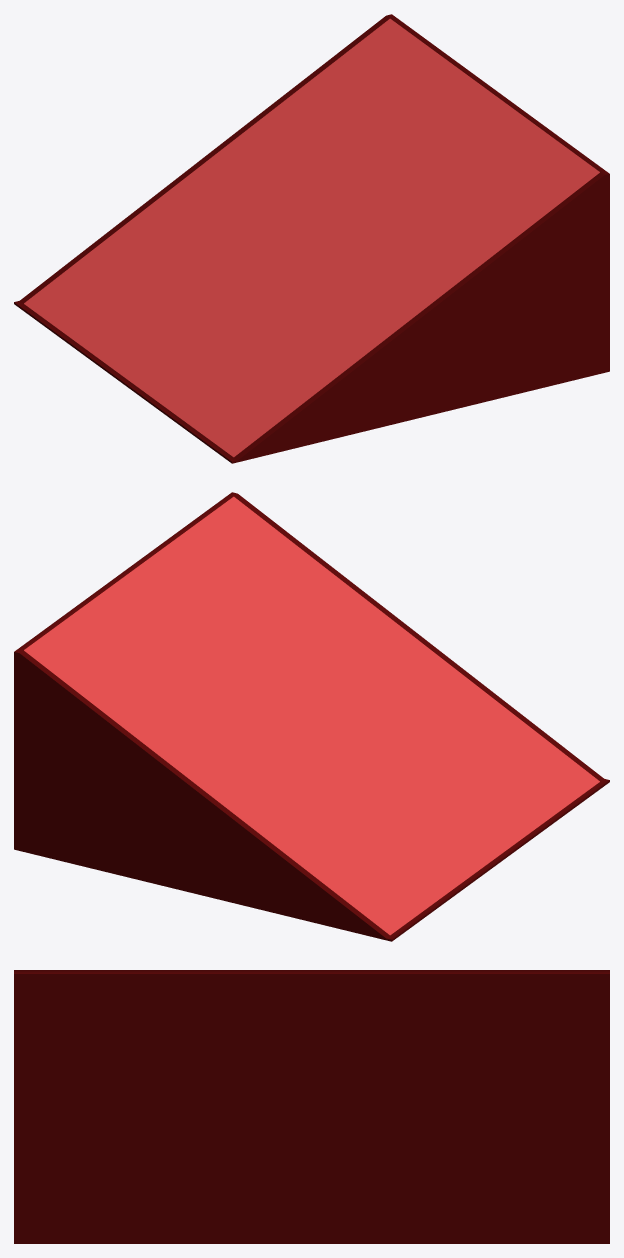
File: Casilla 21.fbx
The picture shows the model from 3 angles, top to bottom: view 1: azimuth 30°, elevation 25°; view 2: azimuth 150°, elevation 25°; view 3: azimuth 270°, elevation 25°; orthographic projection. The views are drawn at different scales.
Visible parts, largest first — view 1: pCube2; view 2: pCube2; view 3: pCube2.
Part boxes in pixels (x1,y1,x2,y2): pCube2: [14, 14, 609, 463]; pCube2: [14, 492, 609, 941]; pCube2: [14, 970, 609, 1243].
Bounding box in the file's own units: 200 × 100 × 200.
